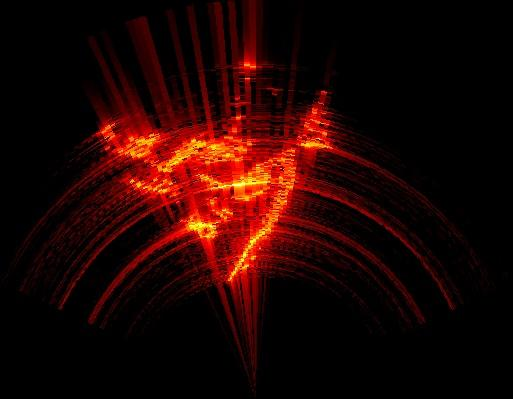shipwreck: (94, 98, 333, 277)
